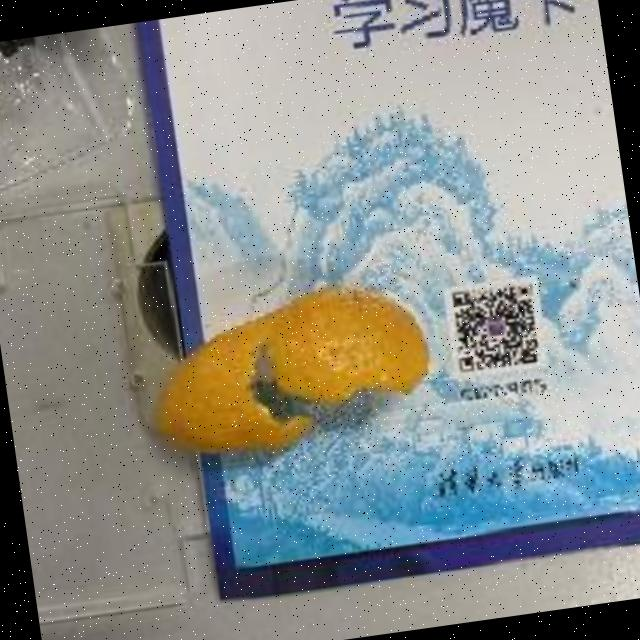orange-peel: (136, 272, 442, 469)
